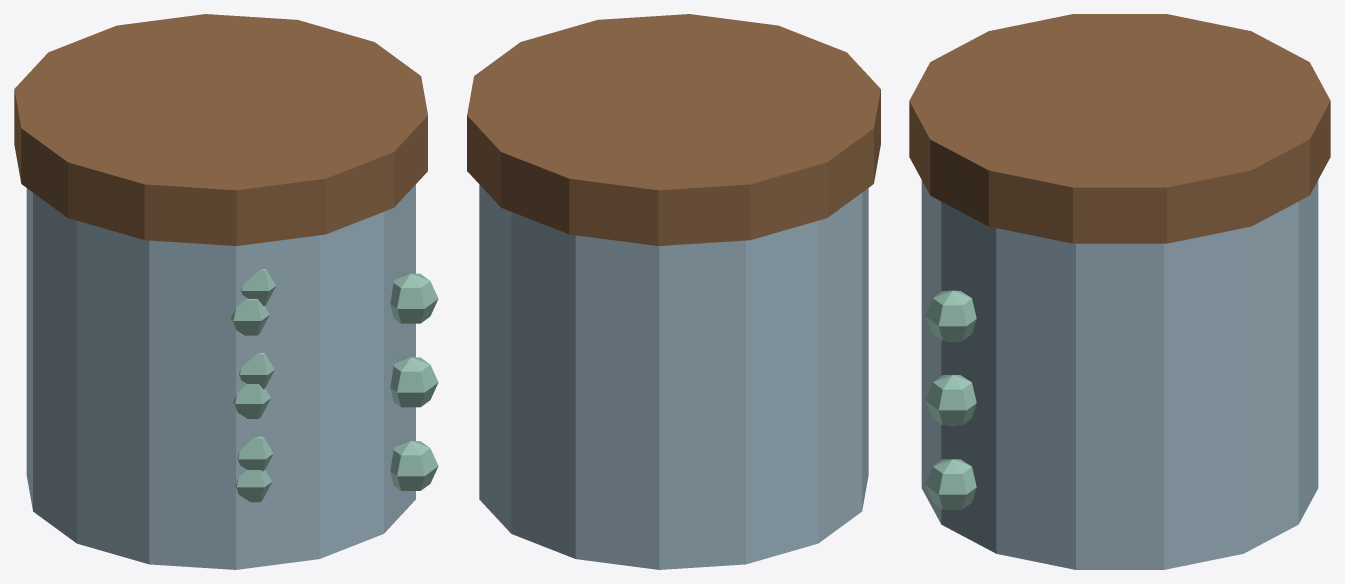
The model's file is bait-glow.glb.
3 renders of one model, left to right at view 1: azimuth 30°, elevation 25°; view 2: azimuth 150°, elevation 25°; view 3: azimuth 270°, elevation 25°, orthographic.
Visible parts, largest first — view 1: bait-glow; view 2: bait-glow; view 3: bait-glow.
Part boxes in pixels (x1,y1,x2,y2): bait-glow: (14, 14, 438, 569); bait-glow: (467, 14, 880, 569); bait-glow: (909, 14, 1330, 569).
Size of the model in its own units: 0.663 by 0.69 by 0.68.
